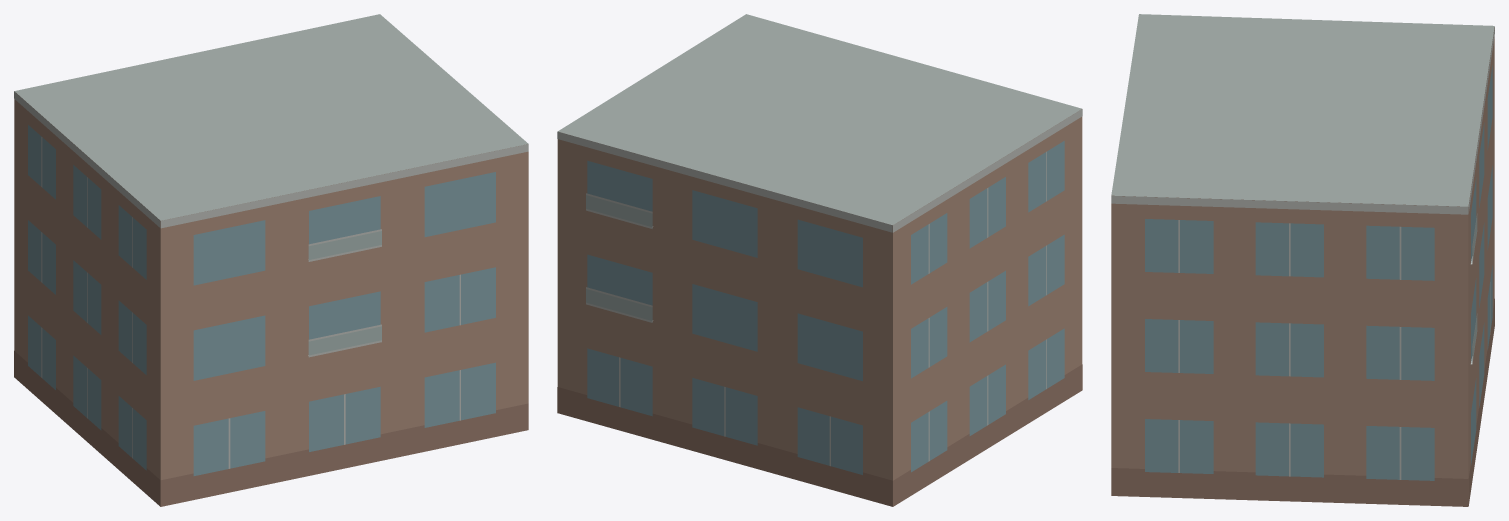
File: survey-upis-32599745.glb
3 views of the same model, side by side, from view 1: azimuth 30°, elevation 25°; view 2: azimuth 150°, elevation 25°; view 3: azimuth 270°, elevation 25° (orthographic). The views are drawn at different scales.
Visible parts, largest first — view 1: survey-upis-32599745.tmp; view 2: survey-upis-32599745.tmp; view 3: survey-upis-32599745.tmp.
Boxes of the visible parts, x1,y1,x2,y2 form: survey-upis-32599745.tmp: [14, 14, 528, 506]; survey-upis-32599745.tmp: [557, 14, 1082, 506]; survey-upis-32599745.tmp: [1111, 14, 1494, 506].
Bounding box in the file's own units: 12.61 × 9.15 × 10.61.
